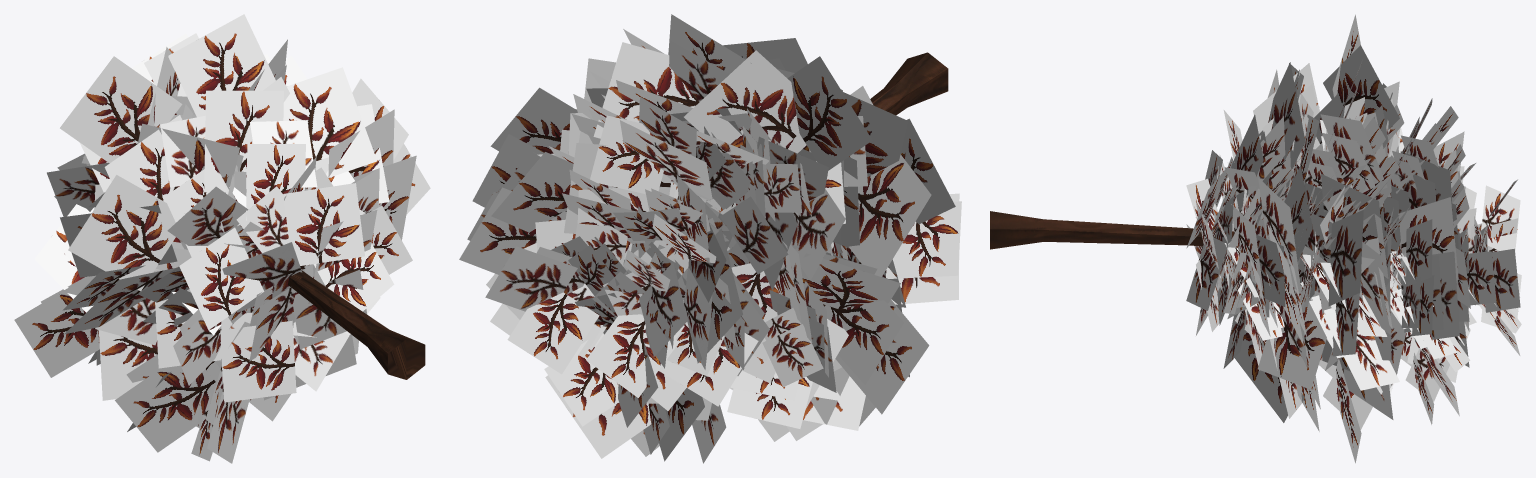
Rendered from treeNew 1.fbx.
The picture shows the model from 3 angles, left to right: view 1: azimuth 30°, elevation 25°; view 2: azimuth 150°, elevation 25°; view 3: azimuth 270°, elevation 25°; orthographic projection. The views are drawn at different scales.
Visible parts, largest first — view 1: Cylinder; view 2: Cylinder; view 3: Cylinder.
Boxes of the visible parts, <box> form: Cylinder: <box>14,14,430,463</box>; Cylinder: <box>459,14,961,463</box>; Cylinder: <box>990,14,1521,463</box>.
Bounding box in the file's own units: 1316 × 1244 × 1557.
